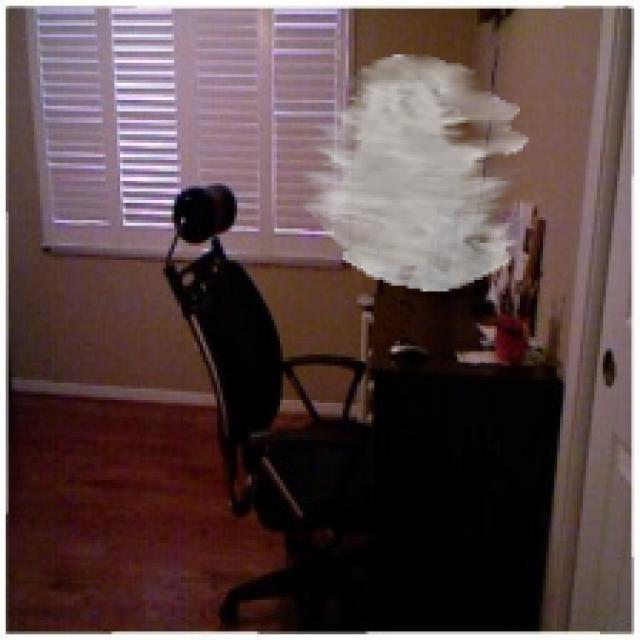smoke: (300, 55, 529, 292)
